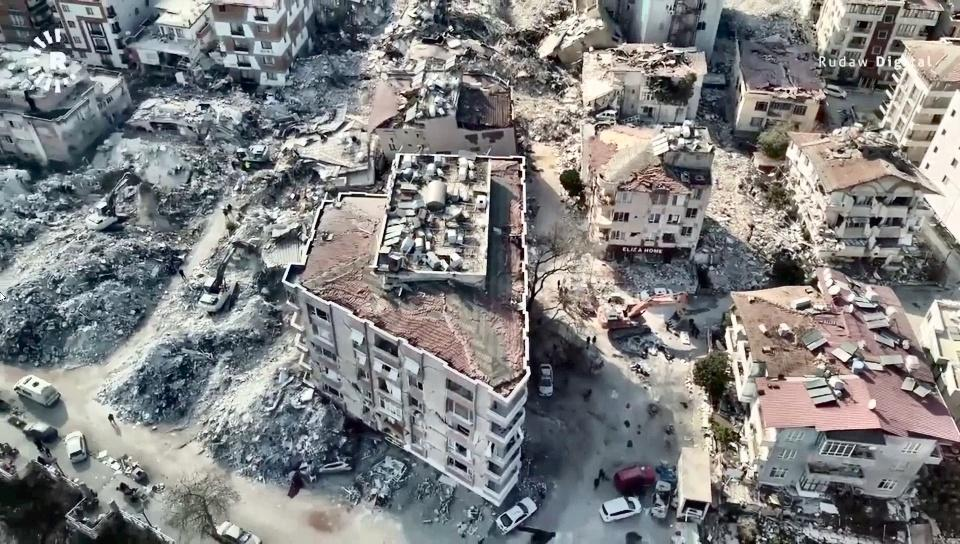kapali: (513, 0, 583, 170)
